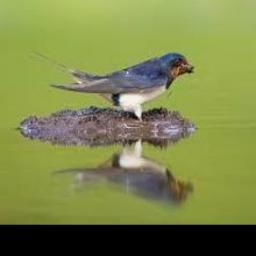Swallow: (29, 52, 193, 122)
